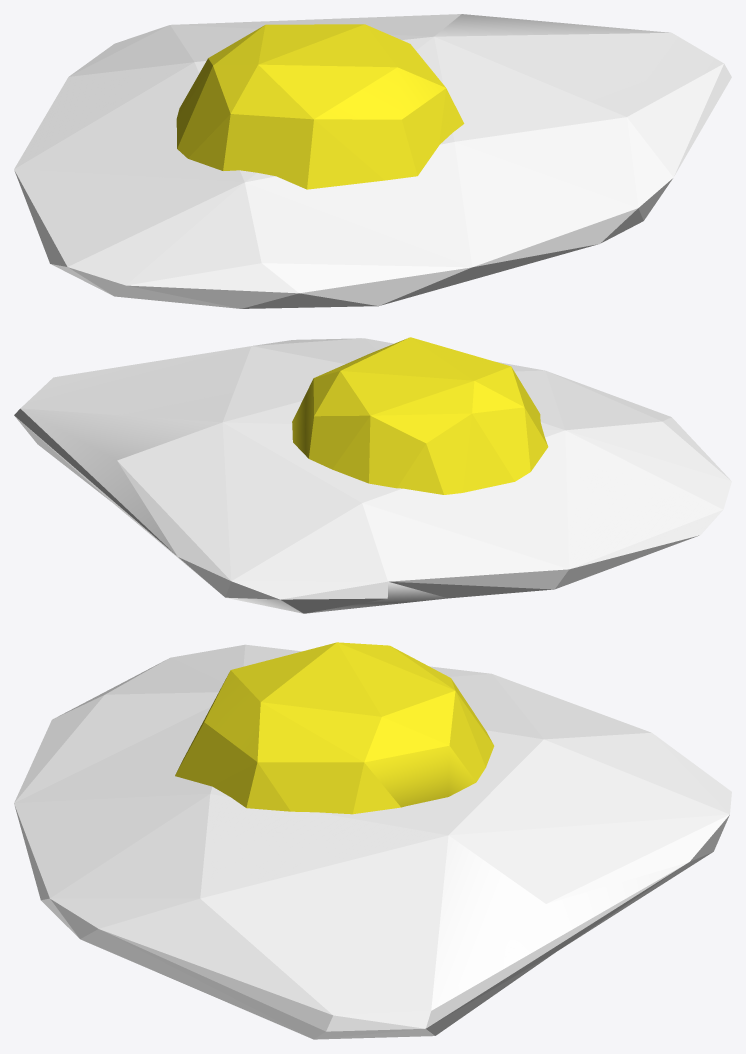
Rendered from Egg_01.fbx.
The picture shows the model from 3 angles, top to bottom: view 1: azimuth 30°, elevation 25°; view 2: azimuth 150°, elevation 25°; view 3: azimuth 270°, elevation 25°; orthographic projection. The views are drawn at different scales.
Parts seen in each view (by area): view 1: Egg_01; view 2: Egg_01; view 3: Egg_01.
Part boxes in pixels (x1=…): Egg_01: x1=14, y1=14, x2=731, y2=308; Egg_01: x1=14, y1=337, x2=731, y2=613; Egg_01: x1=14, y1=642, x2=731, y2=1039.
Size of the model in its own units: 14 by 2.74 by 11.23.
